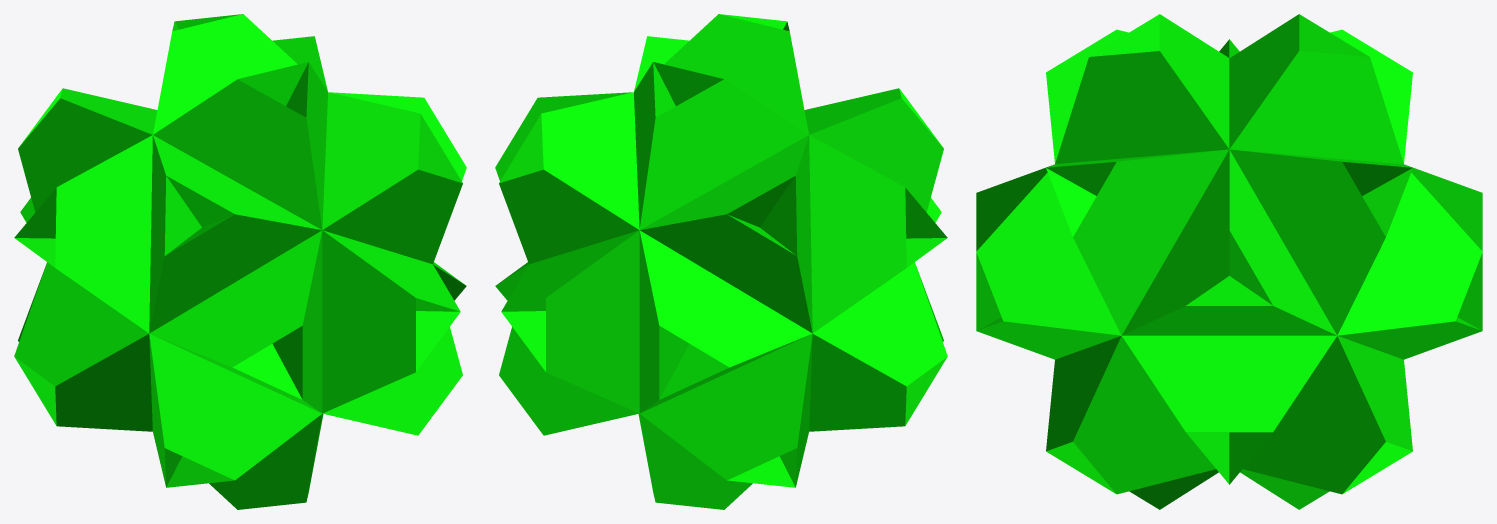
Rendered from iso4.fbx.
3 renders of one model, left to right at view 1: azimuth 30°, elevation 25°; view 2: azimuth 150°, elevation 25°; view 3: azimuth 270°, elevation 25°, orthographic. The views are drawn at different scales.
Parts seen in each view (by area): view 1: pSolid7; view 2: pSolid7; view 3: pSolid7.
Part boxes in pixels (x1,y1,x2,y2): pSolid7: (14, 14, 466, 509); pSolid7: (495, 14, 947, 509); pSolid7: (976, 14, 1482, 509).
Bounding box in the file's own units: 247 × 247 × 247.
